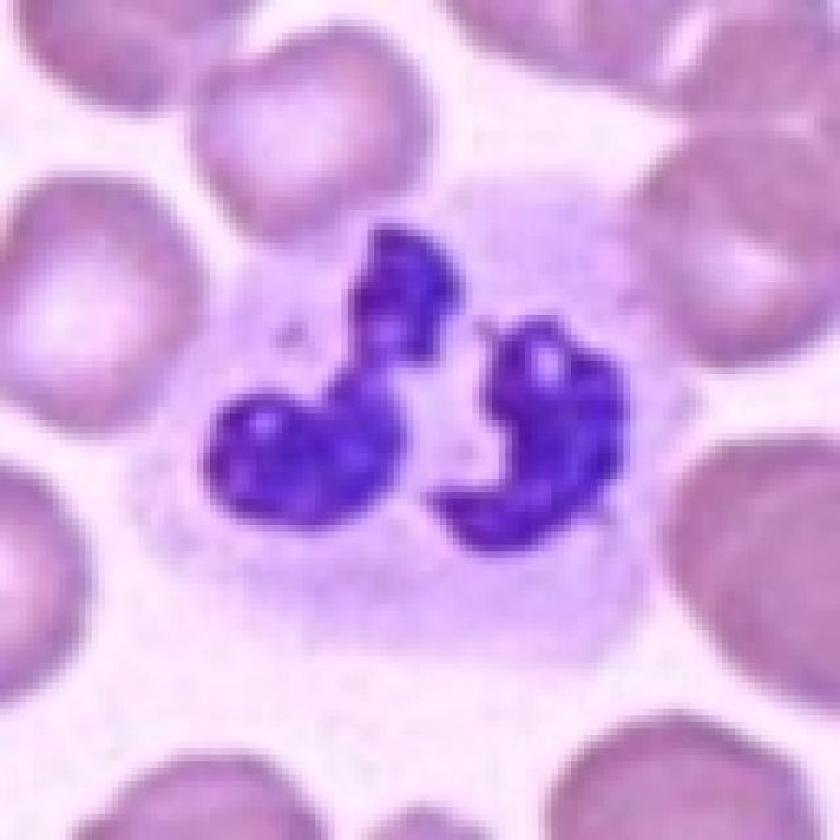neutrophil: (184, 102, 665, 697)
